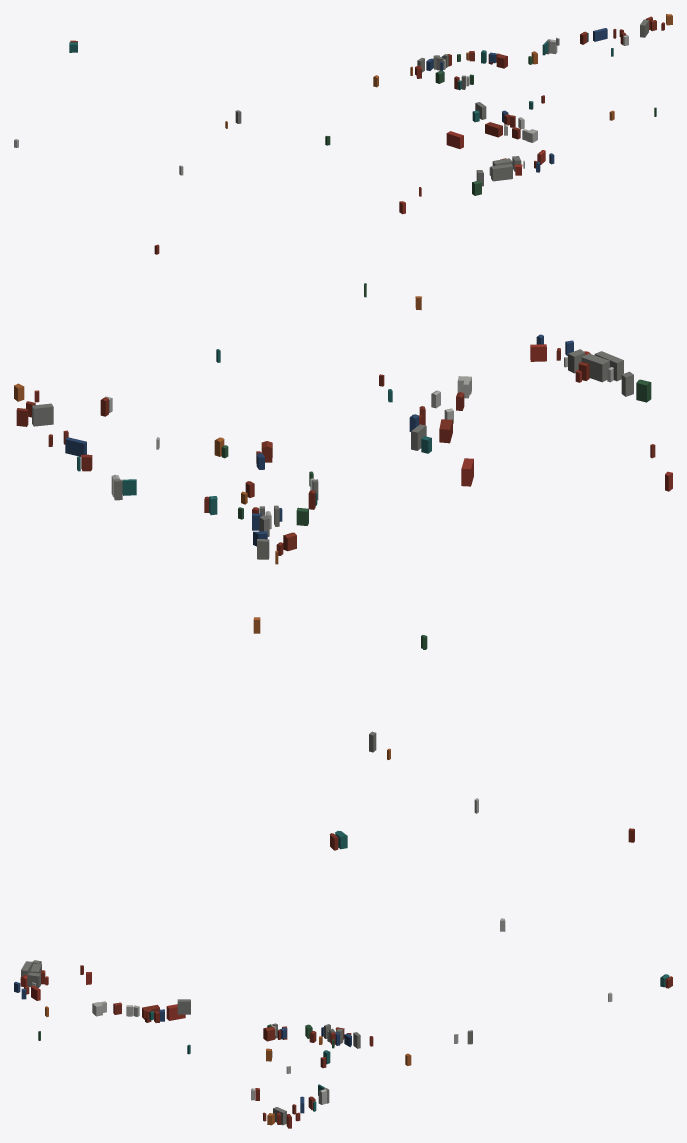
The model's file is near-15-27368-14860.04b5ee16.glb.
The picture shows the model from 3 angles, top to bottom: view 1: azimuth 30°, elevation 25°; view 2: azimuth 150°, elevation 25°; view 3: azimuth 270°, elevation 25°; orthographic projection. The views are drawn at different scales.
Size of the model in its own units: 1018 by 359 by 1122.
